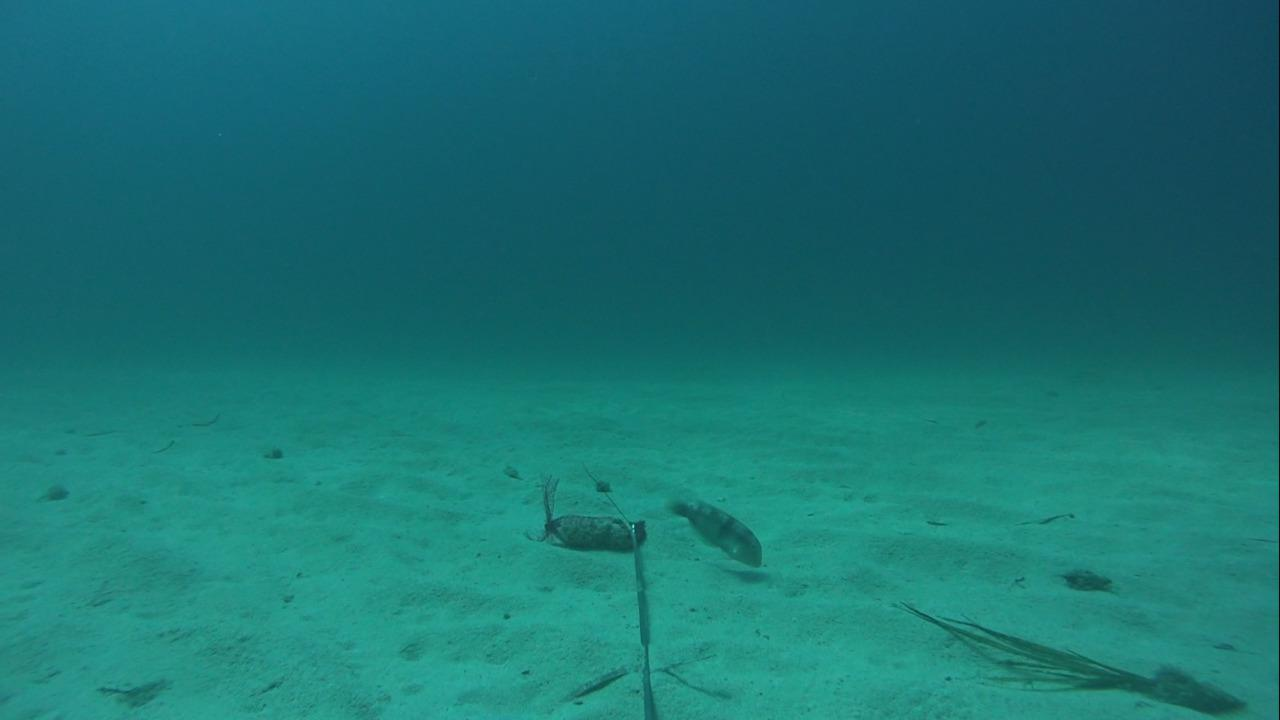raor: (658, 490, 767, 576)
